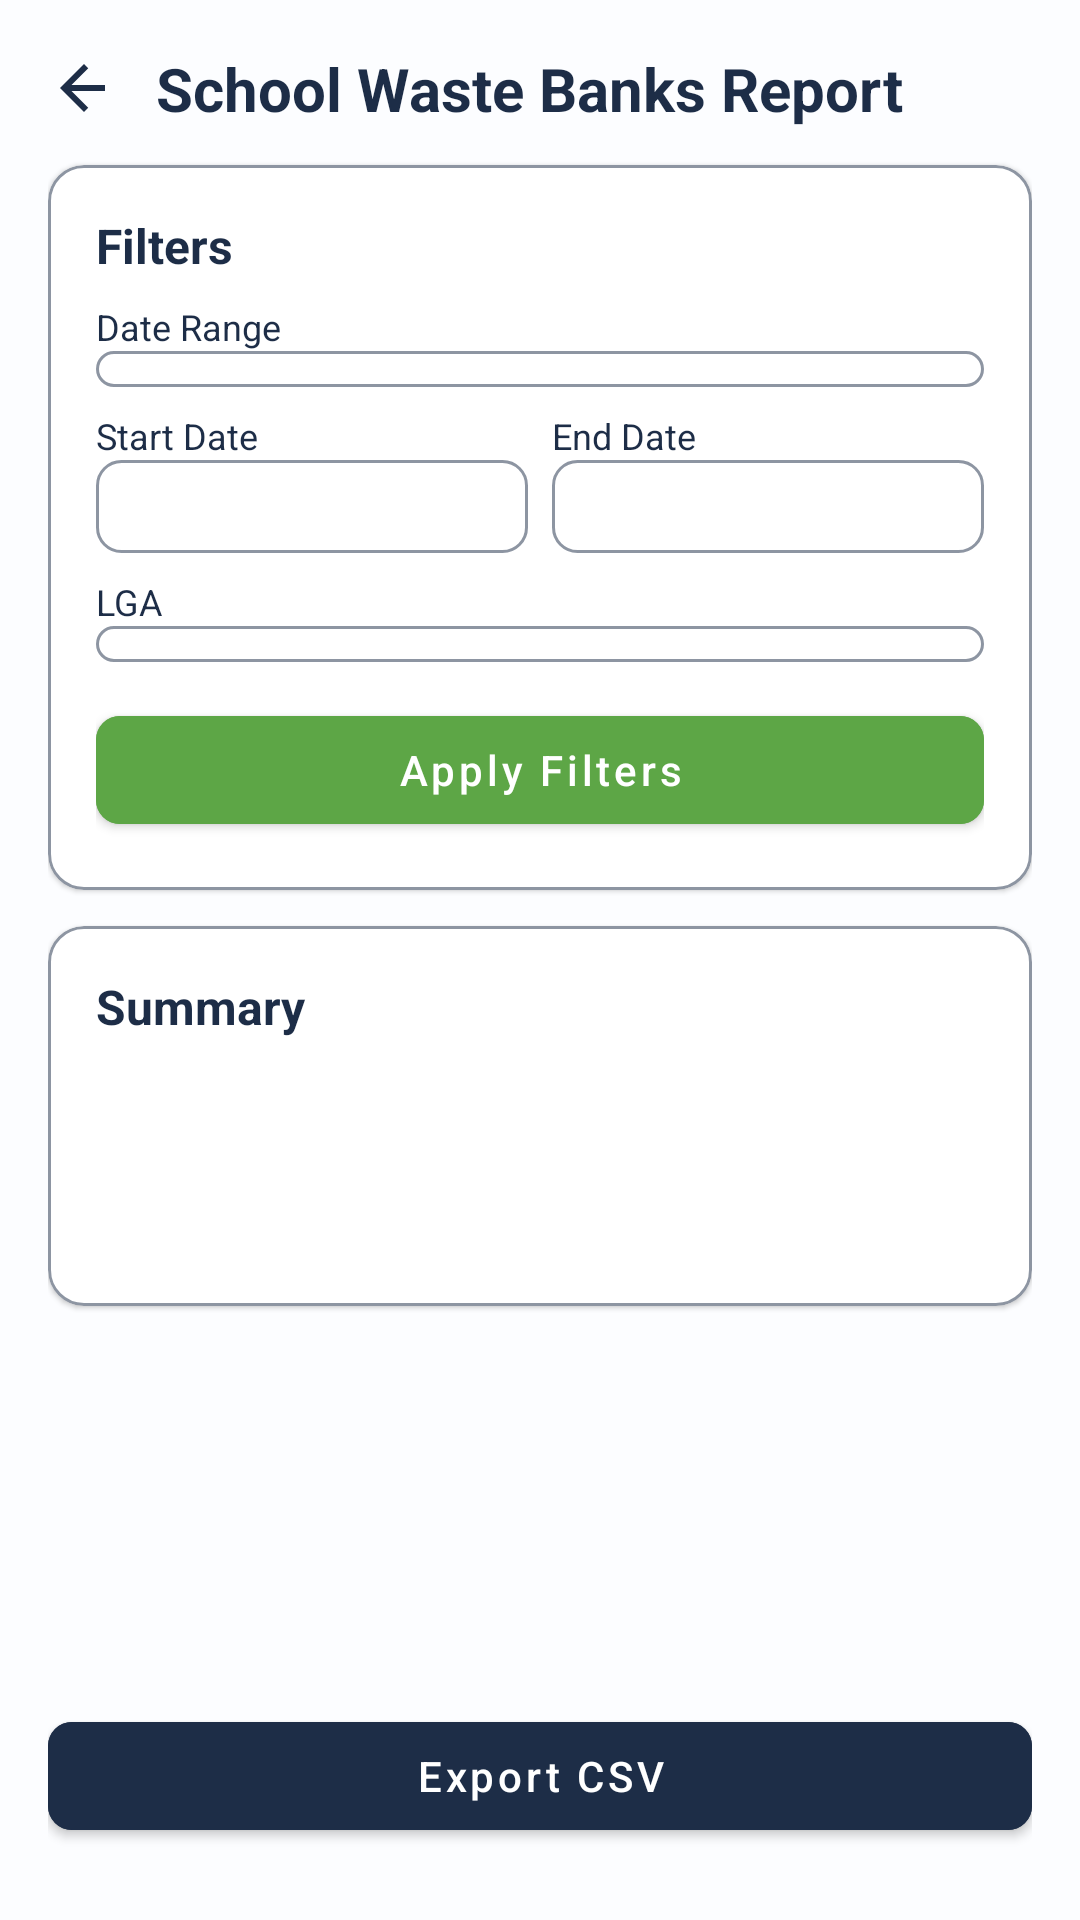

Named icons in this screenshot (1080 × 1920) and their centers, (x,y):
arrow back: (82,88)
